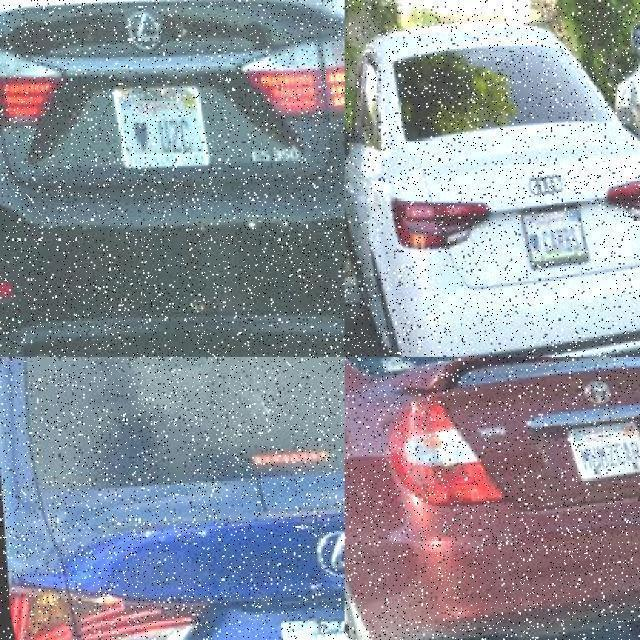License Plate: (106, 76, 206, 178), (560, 417, 639, 479), (518, 198, 586, 264)
